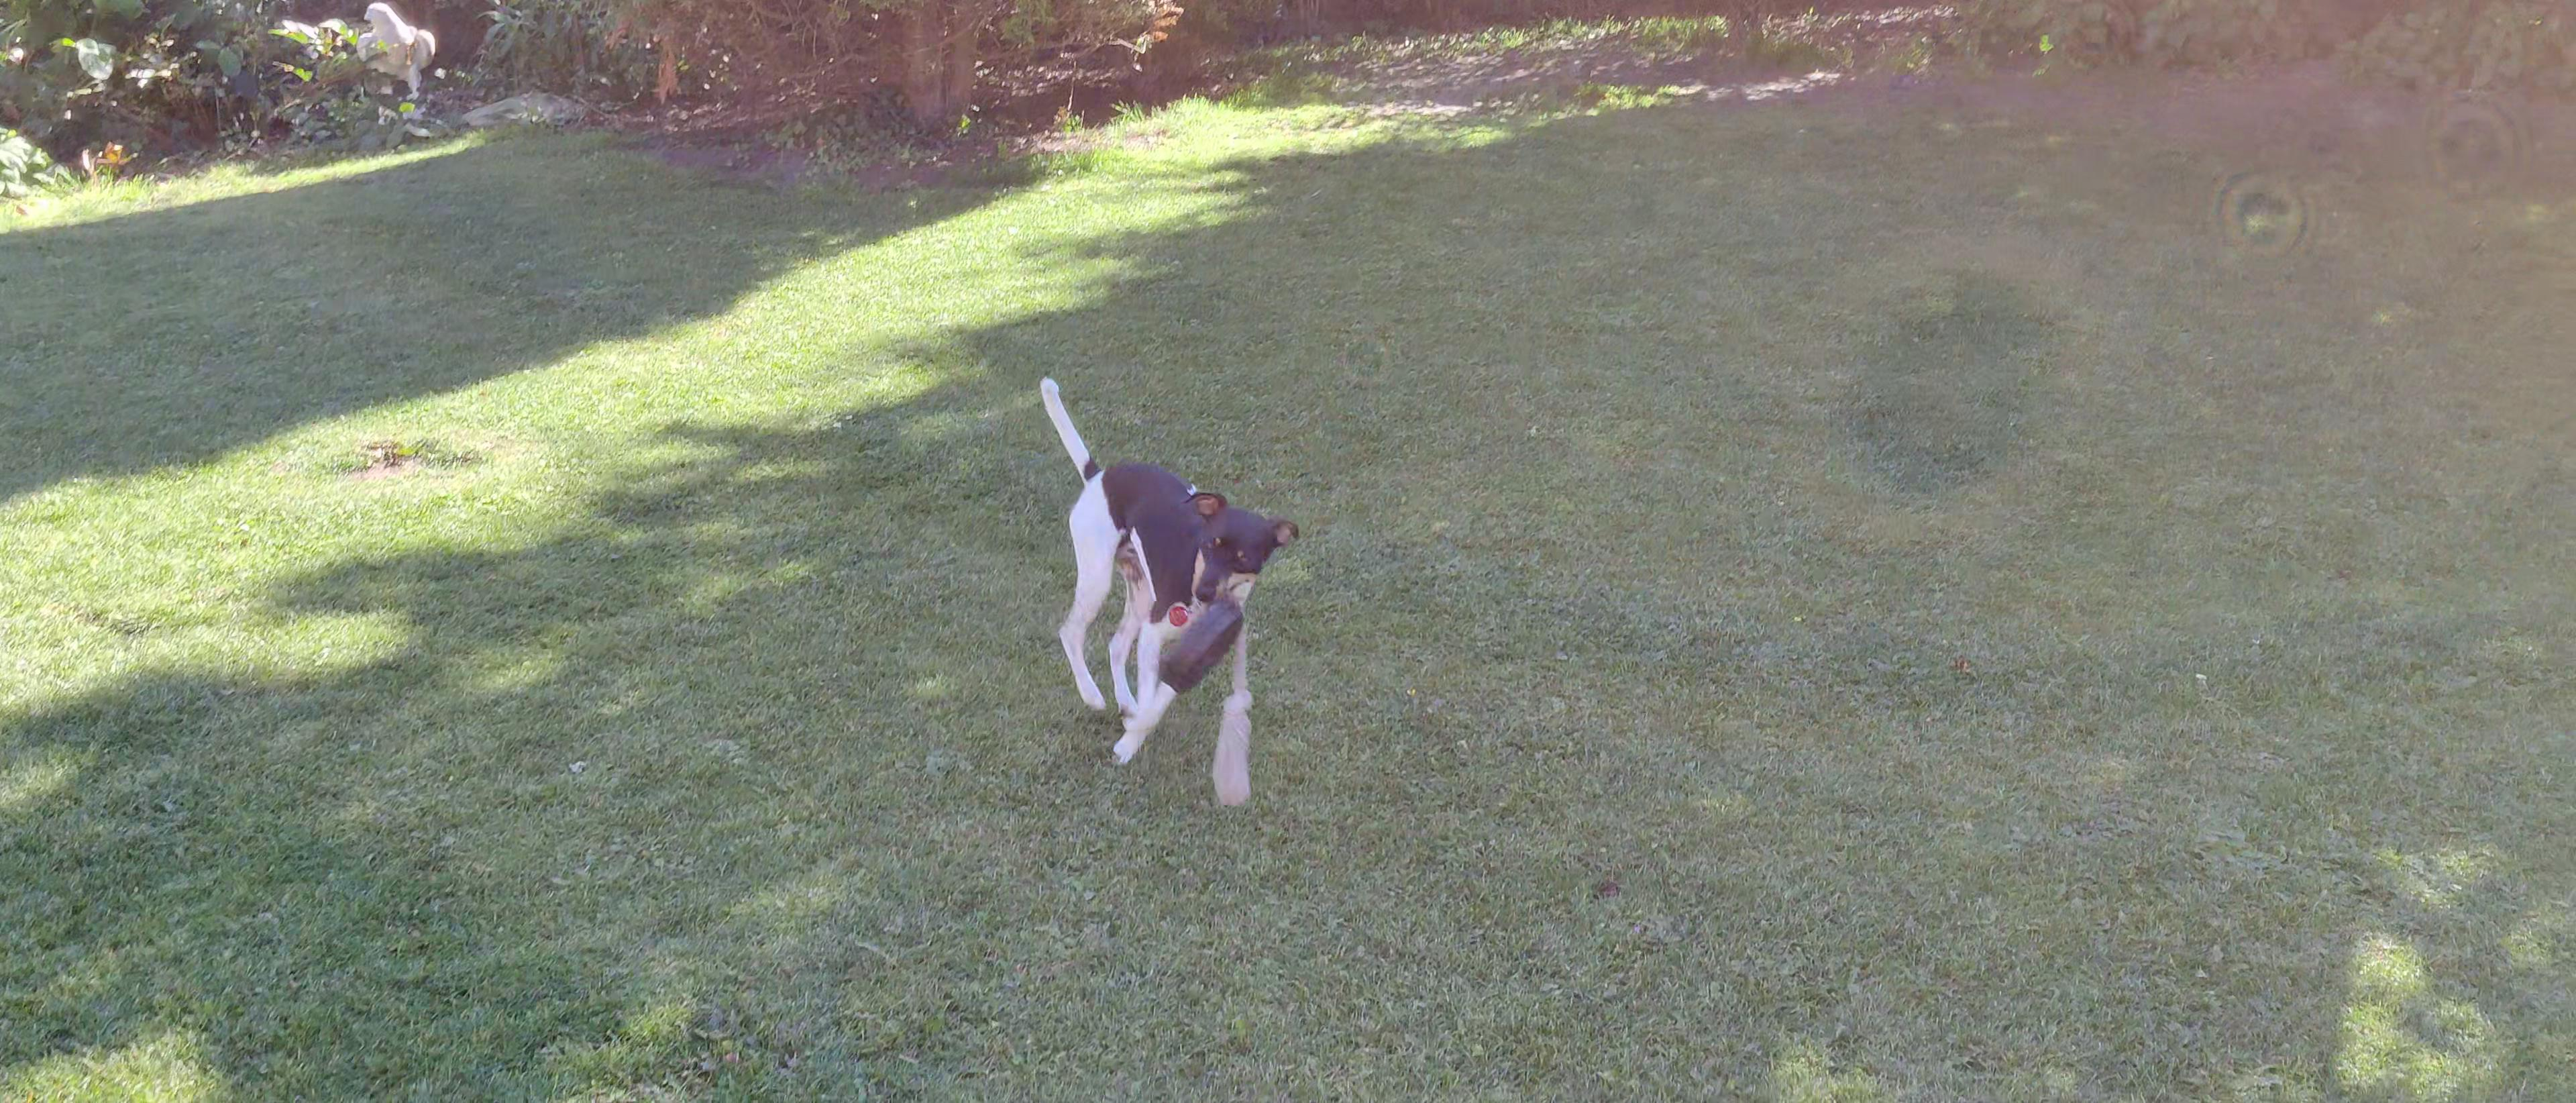Dog: (1017, 350, 1303, 812)
